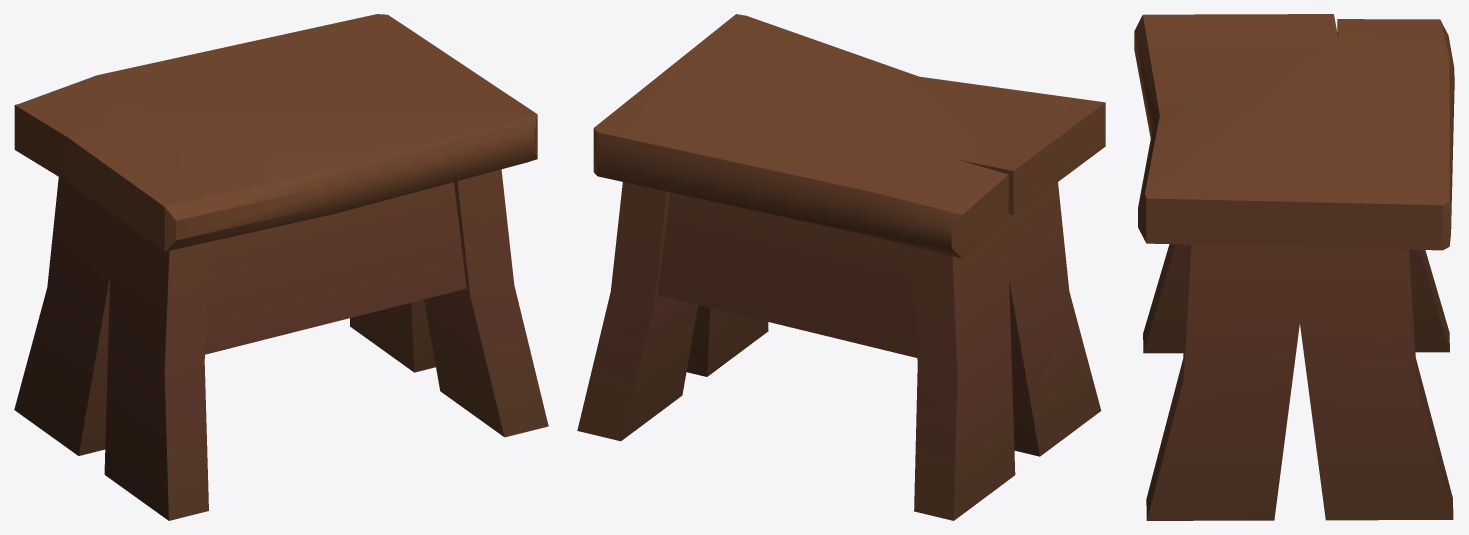
File: Chair_1.fbx
3 views of the same model, side by side, from view 1: azimuth 30°, elevation 25°; view 2: azimuth 150°, elevation 25°; view 3: azimuth 270°, elevation 25° (orthographic). The views are drawn at different scales.
Parts seen in each view (by area): view 1: Chair_1; view 2: Chair_1; view 3: Chair_1.
Part boxes in pixels (left/top/right/bottom): Chair_1: left=14, top=14, right=548, bottom=520; Chair_1: left=577, top=14, right=1105, bottom=520; Chair_1: left=1134, top=14, right=1454, bottom=520.
Bounding box in the file's own units: 58.01 × 45.01 × 41.19.
